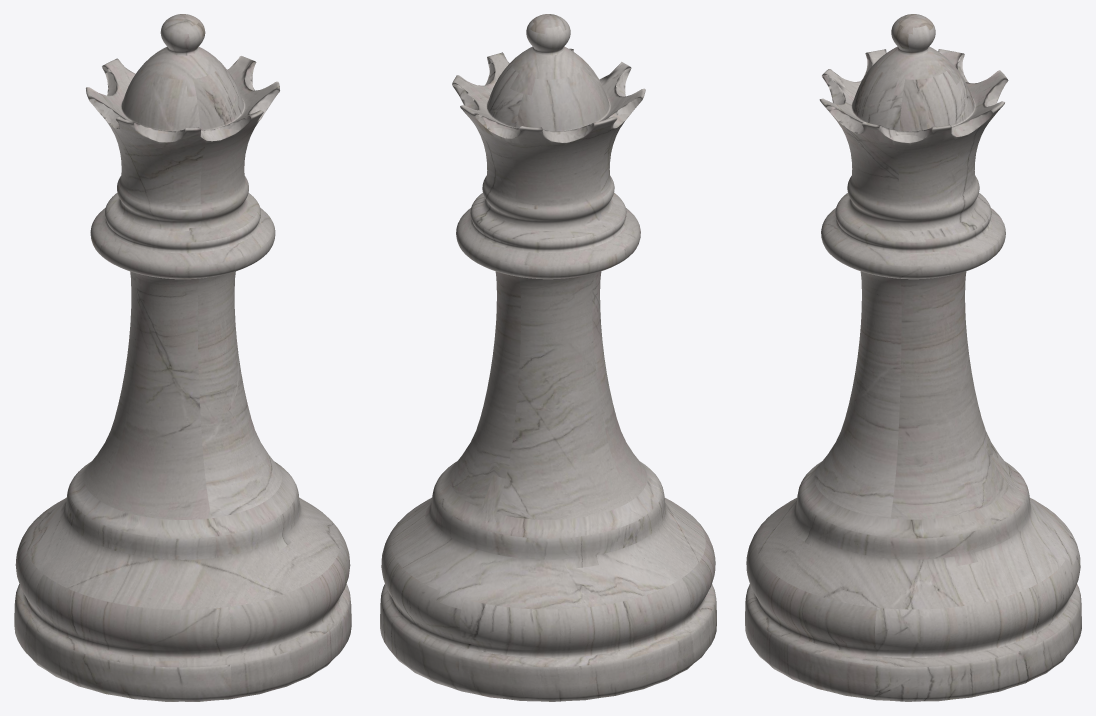
The model's file is WQueen.glb.
3 views of the same model, side by side, from view 1: azimuth 30°, elevation 25°; view 2: azimuth 150°, elevation 25°; view 3: azimuth 270°, elevation 25° (orthographic).
Parts seen in each view (by area): view 1: Circle.016; view 2: Circle.016; view 3: Circle.016.
Boxes of the visible parts, x1,y1,x2,y2 form: Circle.016: [14, 14, 351, 701]; Circle.016: [380, 14, 716, 701]; Circle.016: [745, 14, 1081, 701].
Bounding box in the file's own units: 3.26 × 6.63 × 3.26.
1 material, 1 textured.
